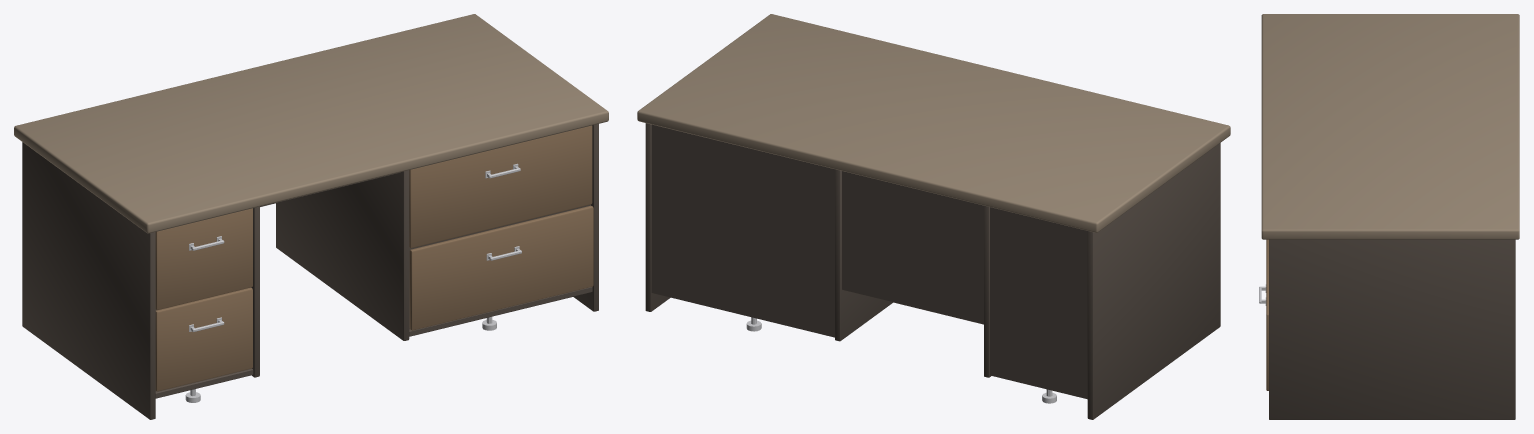
Rendered from SM_OfficeDesk_A.fbx.
3 views of the same model, side by side, from view 1: azimuth 30°, elevation 25°; view 2: azimuth 150°, elevation 25°; view 3: azimuth 270°, elevation 25° (orthographic). The views are drawn at different scales.
Visible parts, largest first — view 1: SM_OfficeDesk_A; view 2: SM_OfficeDesk_A; view 3: SM_OfficeDesk_A.
Boxes of the visible parts, x1,y1,x2,y2 form: SM_OfficeDesk_A: (14,14,608,419); SM_OfficeDesk_A: (637,14,1230,419); SM_OfficeDesk_A: (1259,14,1519,419).
Bounding box in the file's own units: 200 × 83.6 × 101.
